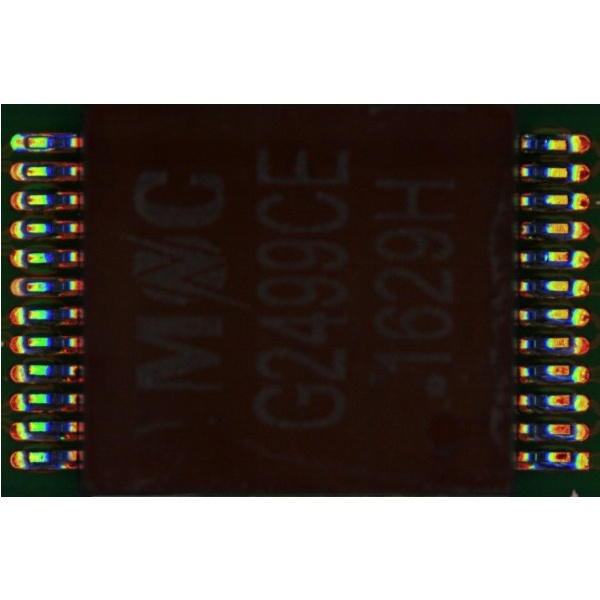Bad_podu: (16, 138, 32, 146)
Bad_qiaojiao: (27, 148, 54, 153), (26, 133, 52, 138)
